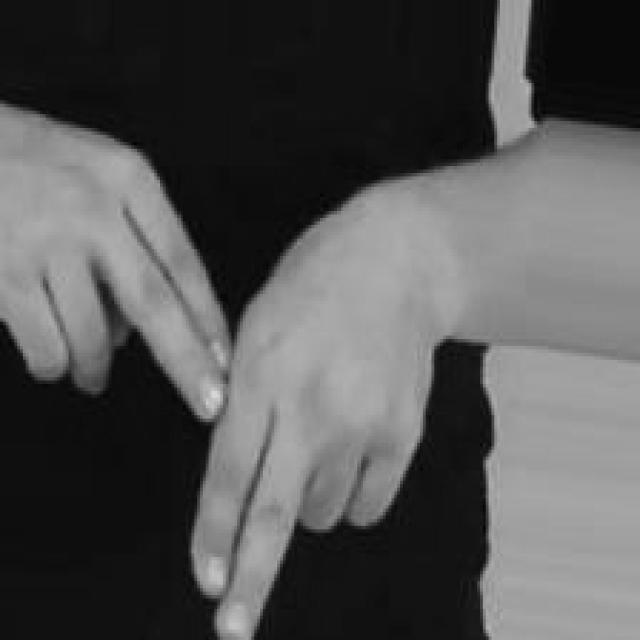K: (0, 90, 486, 640)
